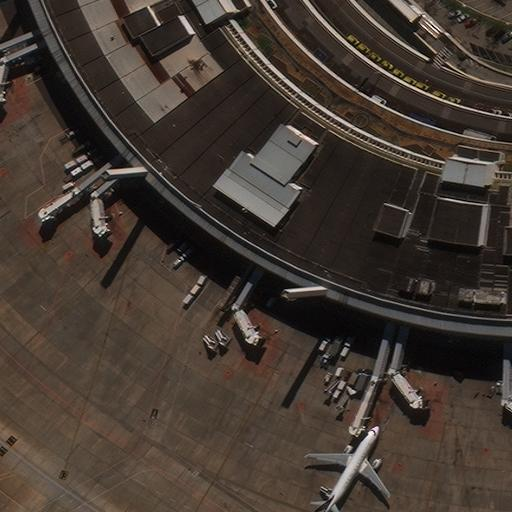Medium Civil Transport: (307, 425, 391, 512)
